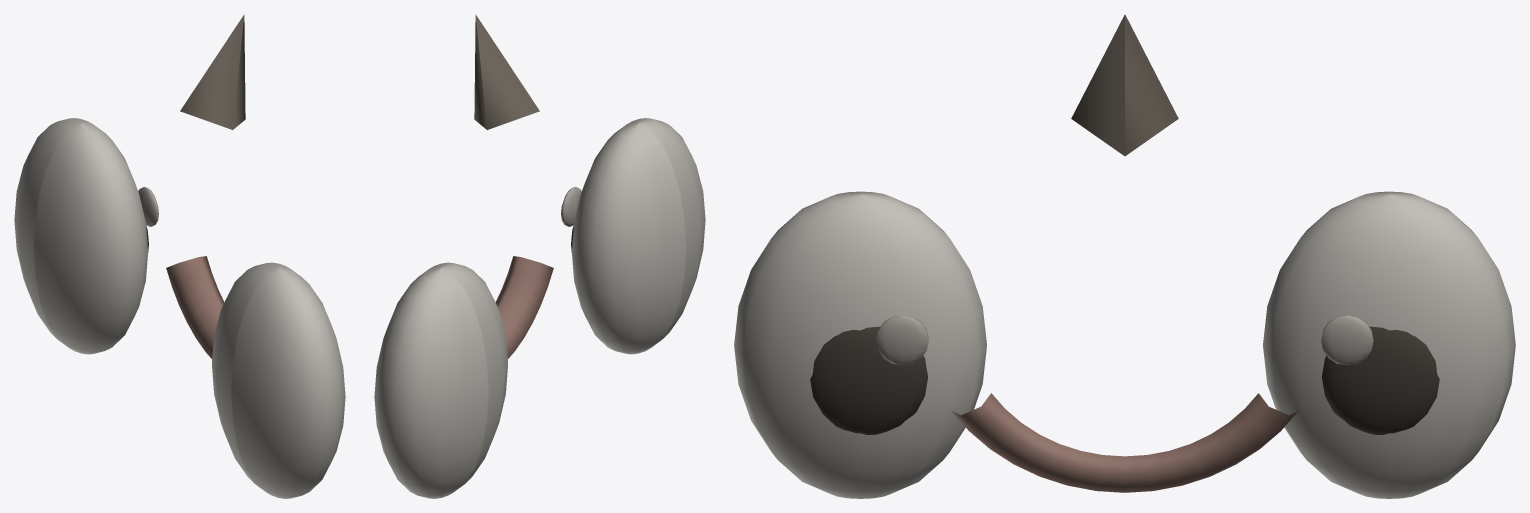
File: crest.glb
3 views of the same model, side by side, from view 1: azimuth 30°, elevation 25°; view 2: azimuth 150°, elevation 25°; view 3: azimuth 270°, elevation 25° (orthographic). The views are drawn at different scales.
Parts seen in each view (by area): view 1: face-crest; view 2: face-crest; view 3: face-crest.
Boxes of the visible parts, x1=… form: face-crest: x1=14, y1=14, x2=345, y2=498; face-crest: x1=374, y1=14, x2=705, y2=498; face-crest: x1=734, y1=14, x2=1515, y2=498.
Size of the model in its own units: 0.0404 by 0.1181 by 0.1597.
